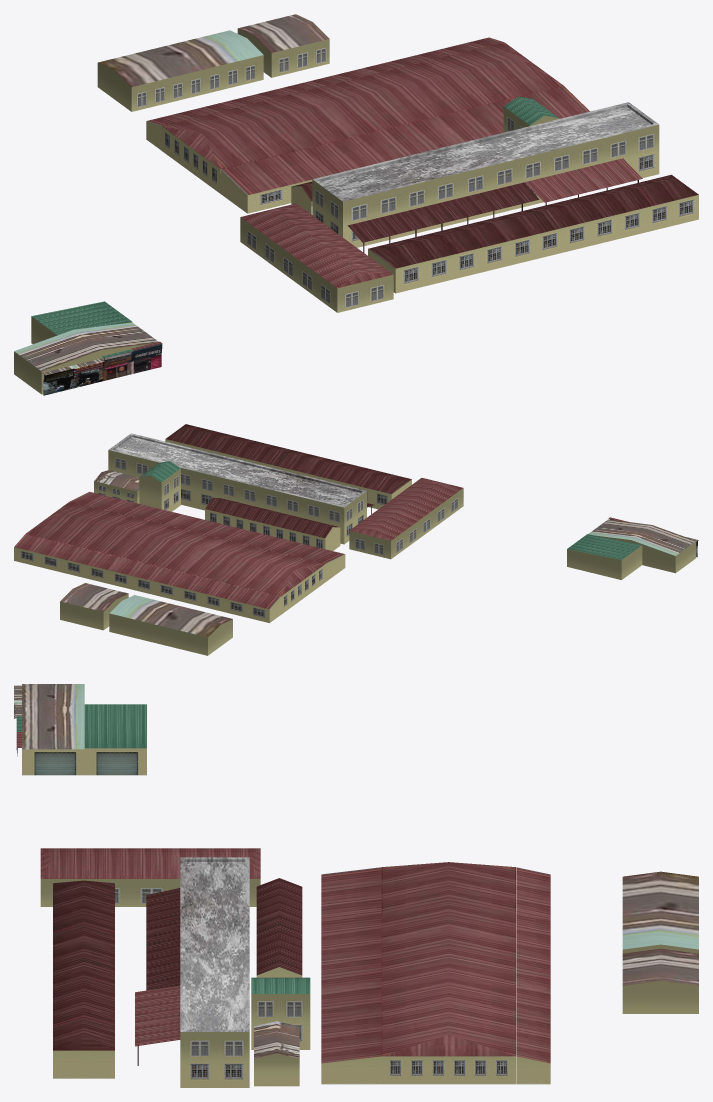
3 renders of one model, top to bottom at view 1: azimuth 30°, elevation 25°; view 2: azimuth 150°, elevation 25°; view 3: azimuth 270°, elevation 25°, orthographic. The views are drawn at different scales.
Visible parts, largest first — view 1: 5c51288d7e51498688152d32.001; view 2: 5c51288d7e51498688152d32.001; view 3: 5c51288d7e51498688152d32.001.
Part boxes in pixels (x1,y1,x2,y2): 5c51288d7e51498688152d32.001: (14,14,698,395); 5c51288d7e51498688152d32.001: (14,424,698,655); 5c51288d7e51498688152d32.001: (14,684,698,1087).
Size of the model in its own units: 93.55 by 7.43 by 71.39.
Materials: 1 (1 with a texture image).
